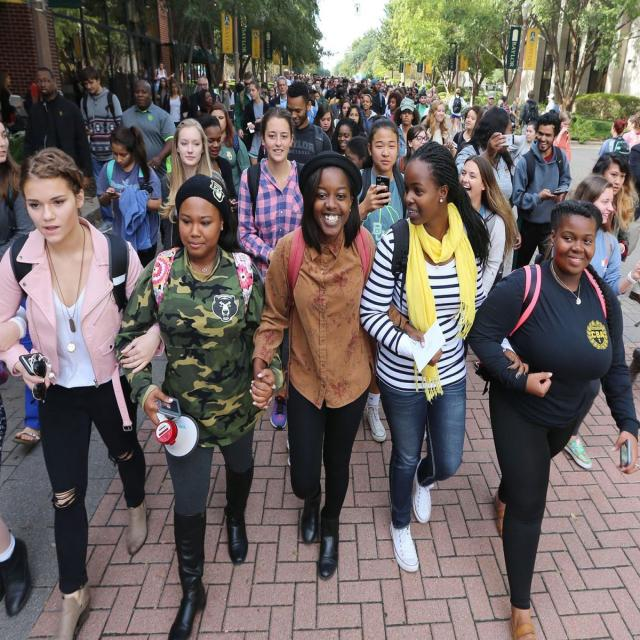body: (0, 145, 163, 640), (111, 171, 278, 639), (470, 199, 639, 639), (355, 141, 492, 576), (249, 150, 384, 584), (2, 58, 563, 136), (550, 175, 640, 472), (237, 106, 310, 429), (354, 114, 412, 444), (0, 120, 43, 448), (0, 374, 53, 636), (458, 154, 520, 362), (96, 124, 164, 272), (158, 117, 231, 253), (511, 111, 572, 270), (22, 67, 96, 191), (78, 64, 125, 235), (454, 104, 516, 205), (120, 78, 177, 184), (591, 150, 638, 262), (194, 115, 240, 214), (207, 102, 252, 200), (285, 81, 333, 165), (506, 118, 540, 211), (619, 154, 640, 264), (242, 79, 268, 166), (444, 106, 482, 160), (395, 124, 431, 176), (391, 97, 422, 157), (597, 118, 631, 164), (421, 99, 452, 148), (234, 70, 255, 141), (160, 78, 189, 128), (329, 114, 361, 157), (0, 70, 23, 128), (188, 74, 222, 110), (518, 89, 541, 137), (344, 136, 374, 172), (311, 103, 337, 142), (448, 87, 467, 139), (358, 92, 379, 136), (369, 77, 387, 116), (269, 76, 289, 110), (624, 112, 640, 154), (344, 105, 366, 134), (154, 62, 168, 106), (219, 79, 234, 120), (156, 77, 170, 115), (196, 88, 214, 116), (509, 96, 520, 135), (482, 90, 497, 117), (540, 92, 556, 116), (497, 95, 510, 114)
